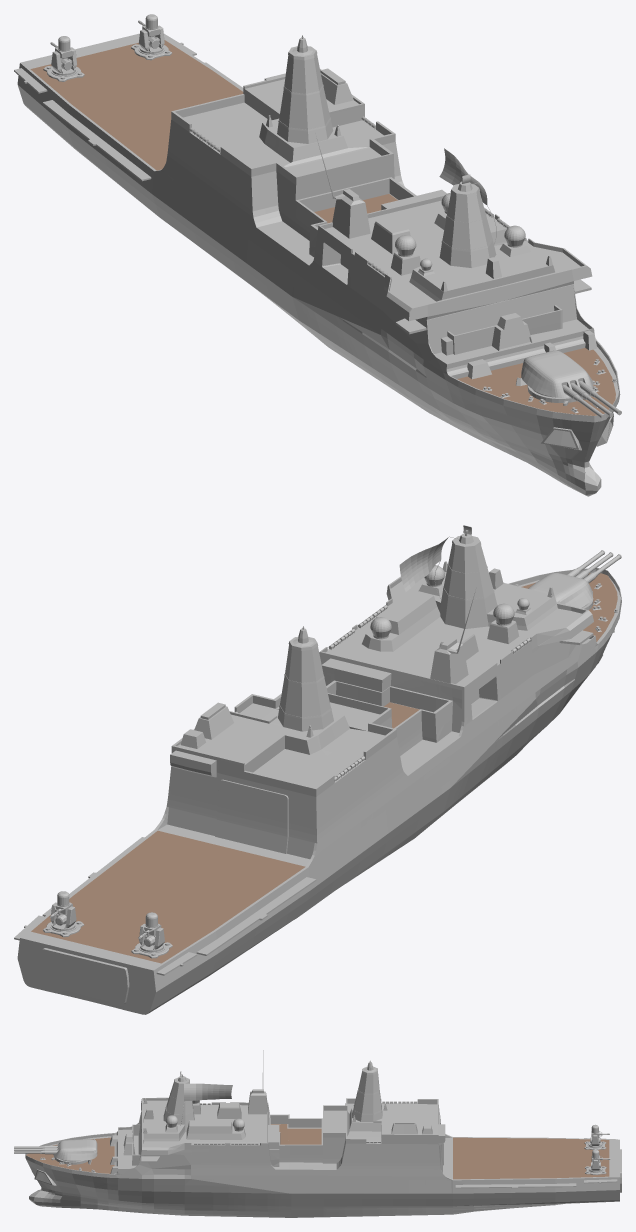
Rendered from middle_classic2.fbx.
3 views of the same model, one above another, from view 1: azimuth 30°, elevation 25°; view 2: azimuth 150°, elevation 25°; view 3: azimuth 270°, elevation 25° (orthographic). The views are drawn at different scales.
Visible parts, largest first — view 1: middle_classic2; view 2: middle_classic2; view 3: middle_classic2.
Boxes of the visible parts, x1,y1,x2,y2 form: middle_classic2: [14, 14, 621, 496]; middle_classic2: [14, 525, 621, 1014]; middle_classic2: [14, 1050, 621, 1217].
Size of the model in its own units: 955 by 1251 by 4733.
